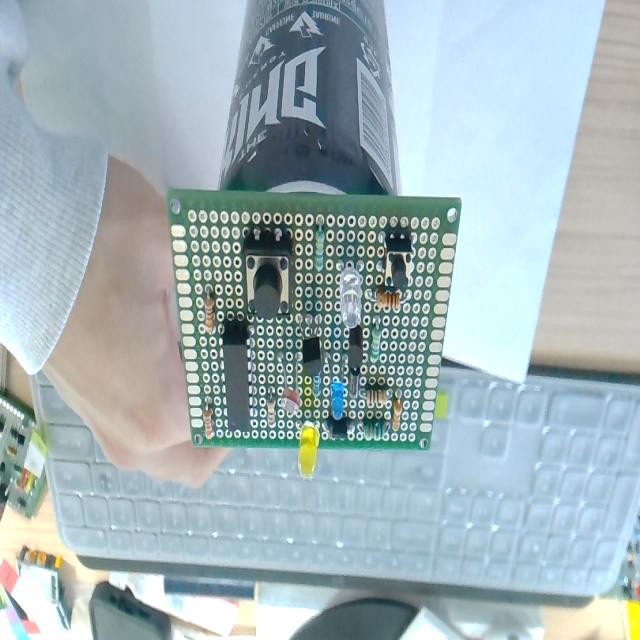IC: (222, 322, 251, 432)
cds: (280, 344, 302, 414)
diode: (323, 414, 354, 442), (347, 367, 361, 397)
led: (340, 264, 362, 328), (298, 420, 320, 478), (330, 378, 344, 421)
resistor: (362, 418, 387, 442), (376, 287, 399, 311), (367, 387, 389, 408), (314, 228, 324, 272), (204, 294, 214, 334), (370, 324, 380, 362), (392, 396, 402, 432), (204, 406, 214, 439), (267, 397, 275, 428), (313, 373, 321, 398)
switch: (242, 232, 294, 322), (384, 233, 412, 294)
transistor: (305, 316, 322, 396), (348, 326, 363, 369)
